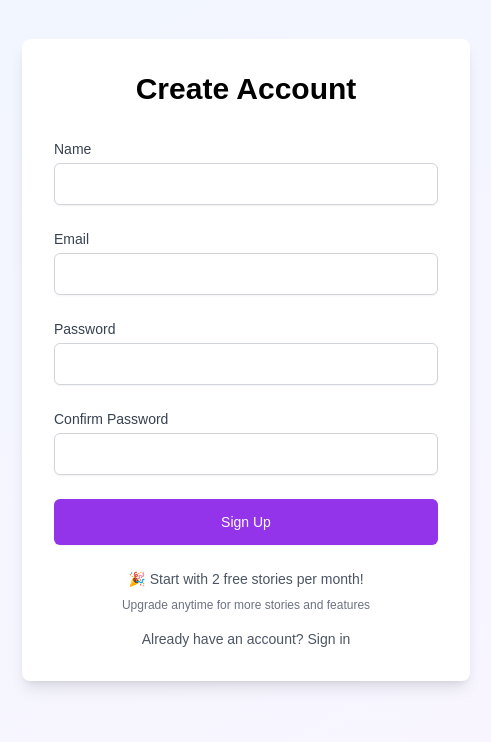
RegisterPage › should validate password length
Type "Test User" into the field labelled "Name".
click(246, 184); type("Test User")  # box [54,163,438,205]
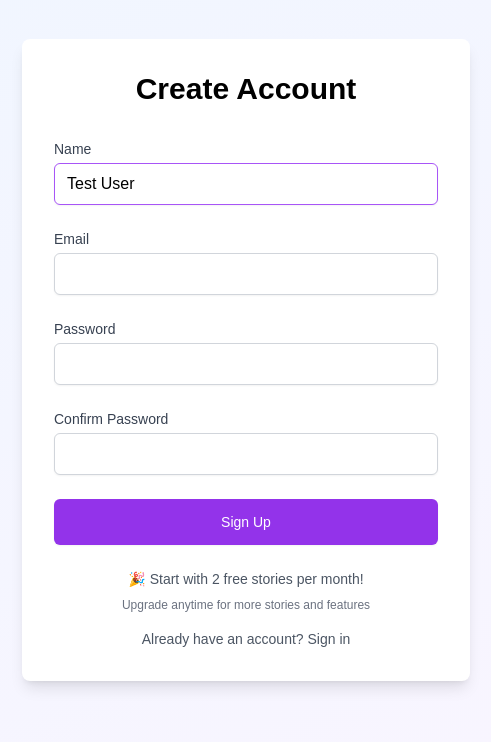
Type "test@example.com" into the field labelled "Email".
click(246, 274); type("test@example.com")  # box [54,253,438,295]
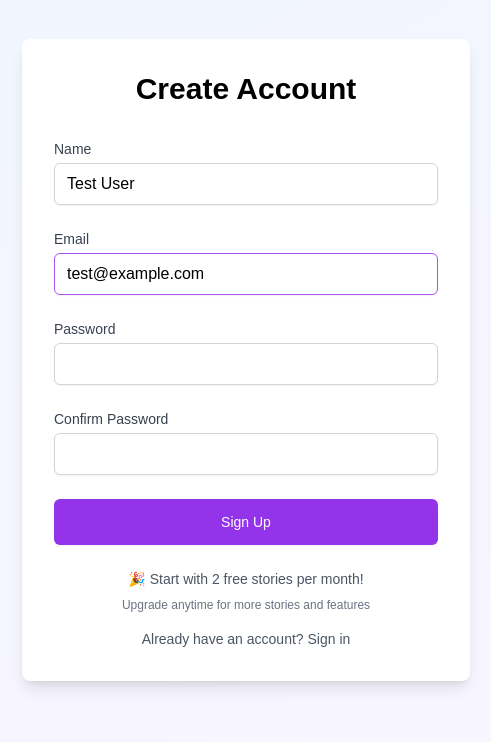
Type "short" into the password field labelled "Password".
click(246, 364); type("short")  # box [54,343,438,385]
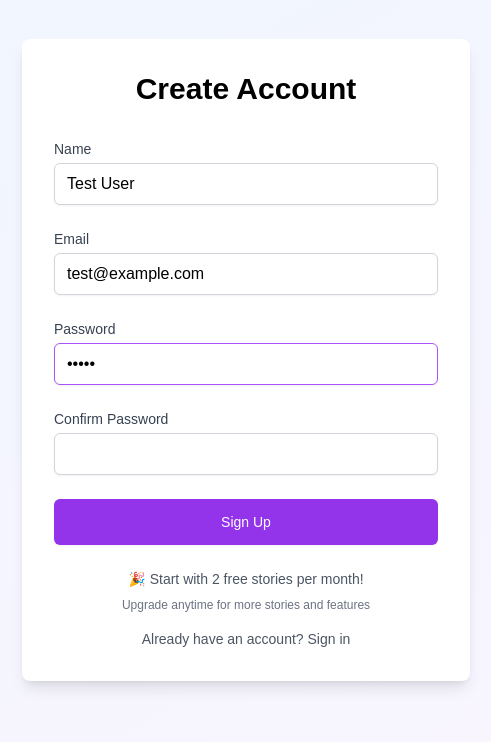
Type "short" into the password field labelled "Confirm Password".
click(246, 454); type("short")  # box [54,433,438,475]
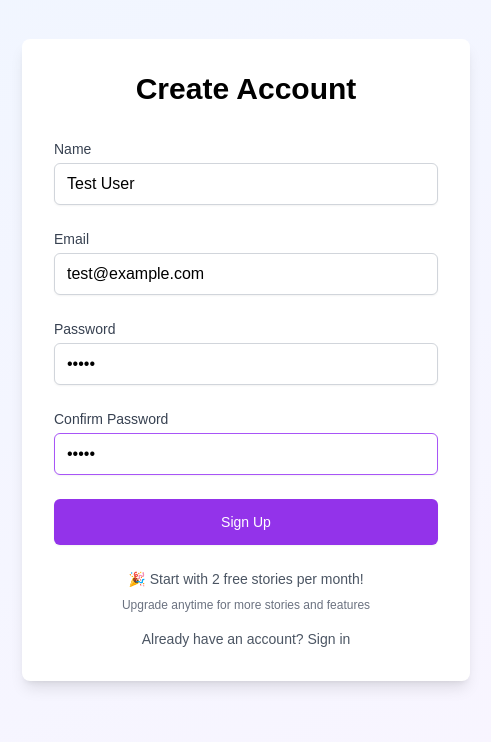
Click the button "Sign Up".
click(246, 522)  # box [54,499,438,545]
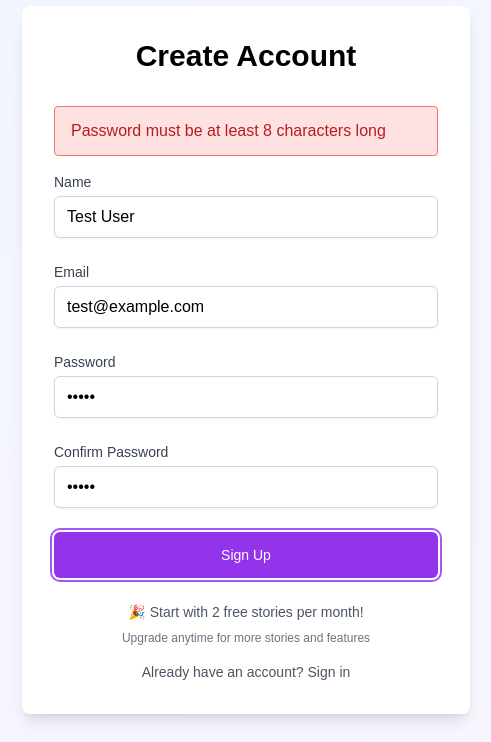
Result: the text "Password must be at least 8 characters long" is shown at [54,106,438,156]
